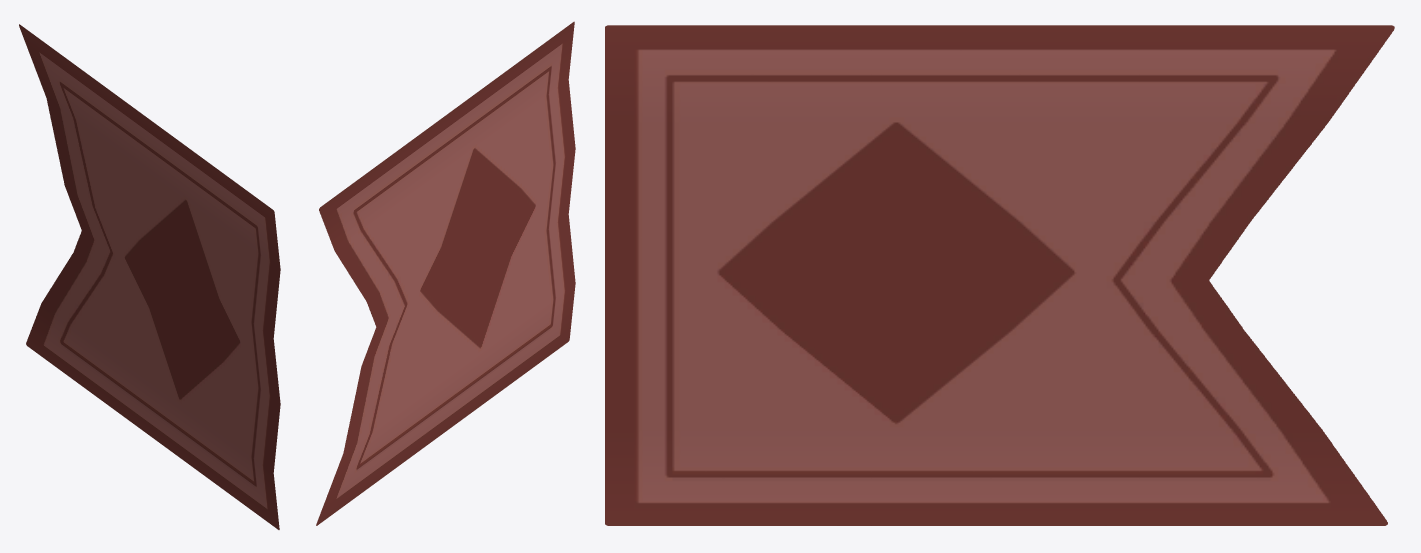
File: Flagpole.fbx
3 views of the same model, side by side, from view 1: azimuth 30°, elevation 25°; view 2: azimuth 150°, elevation 25°; view 3: azimuth 270°, elevation 25° (orthographic). The views are drawn at different scales.
Visible parts, largest first — view 1: Flag; view 2: Flag; view 3: Flag.
Boxes of the visible parts, x1,y1,x2,y2 form: Flag: [19, 24, 280, 529]; Flag: [316, 21, 575, 525]; Flag: [605, 25, 1394, 525].
Bounding box in the file's own units: 0.0373 × 1.74 × 2.43.
